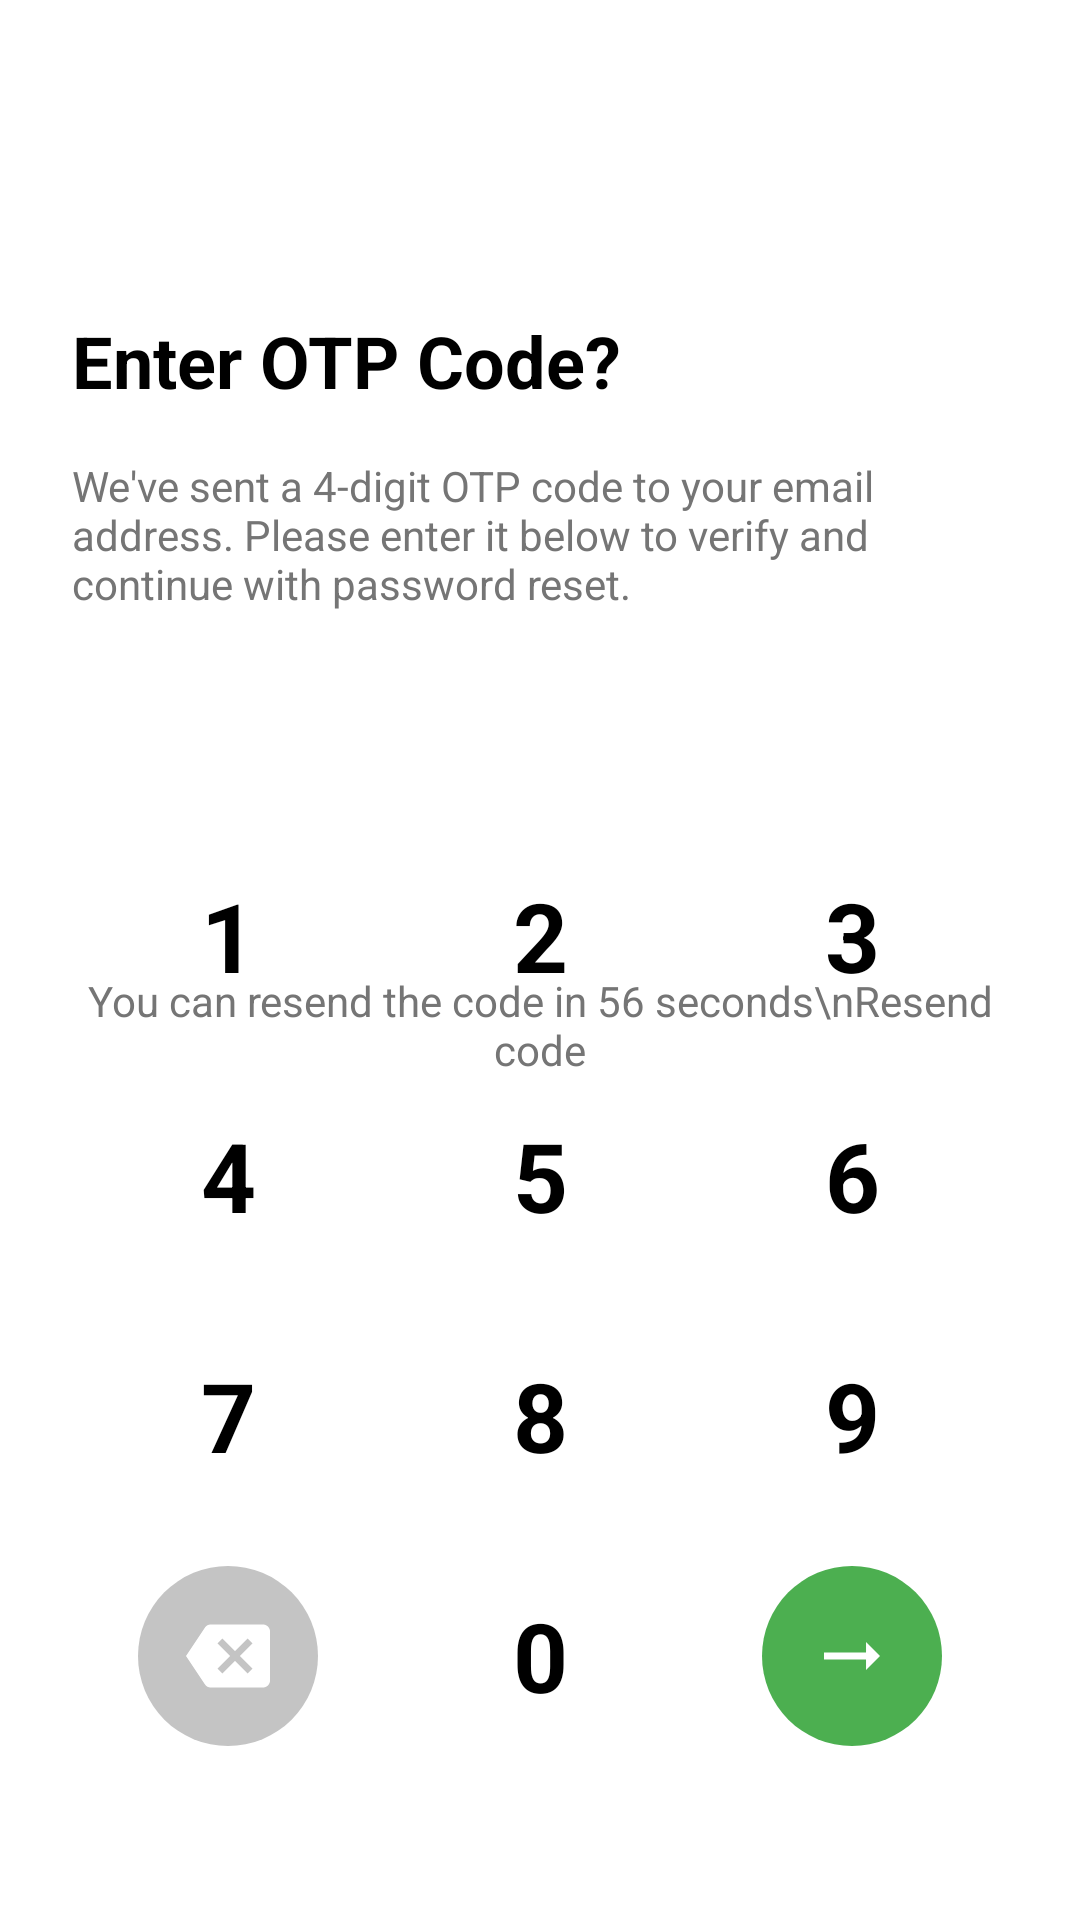

Locate icon controls on the screen. Image size 1080 x 1920, boxes as (x1, y1, x2, y2).
arrow fima: (762, 1566, 942, 1746)
backspace: (138, 1566, 318, 1746)
